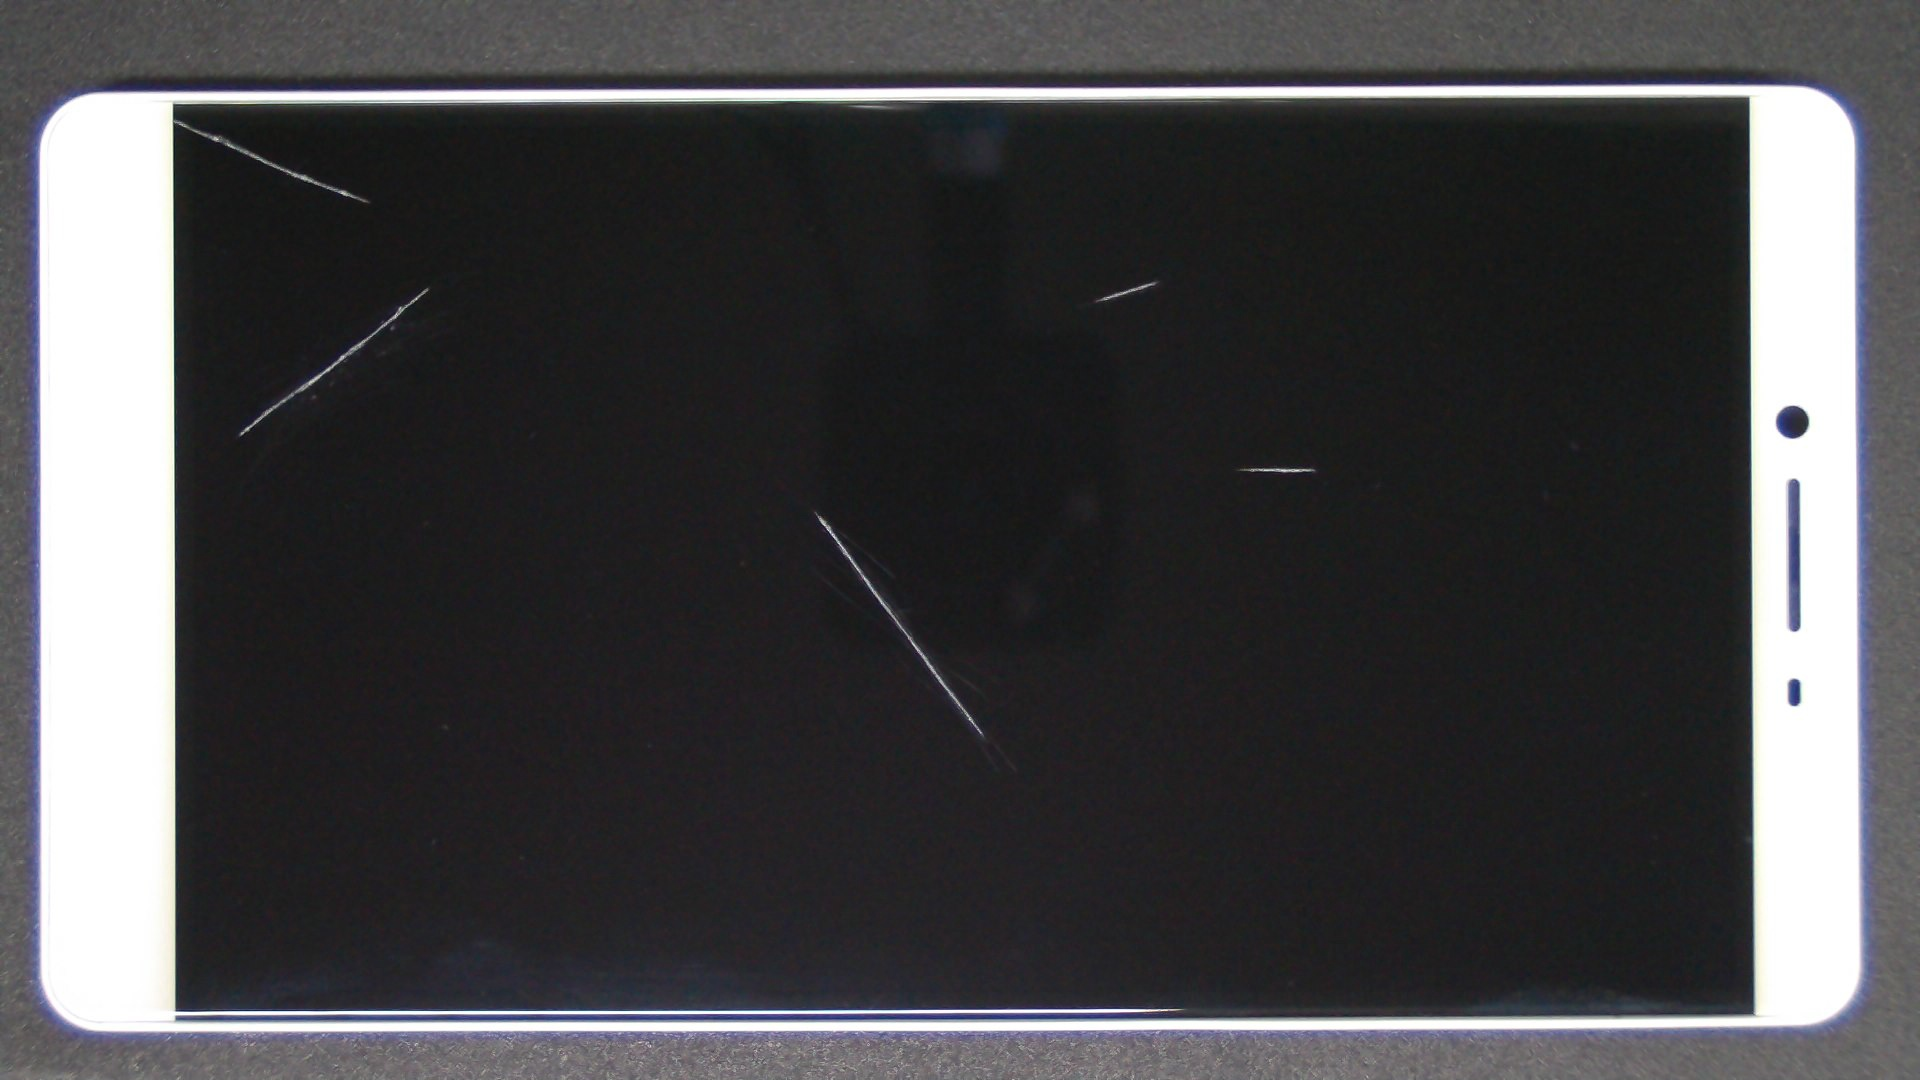oil: (621, 233, 1862, 702), (407, 255, 1222, 766), (579, 140, 1737, 421), (215, 140, 633, 434), (88, 59, 262, 179)
